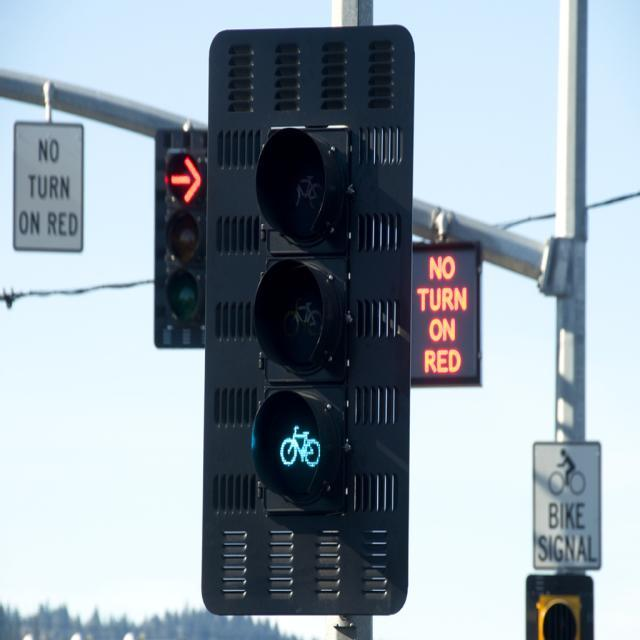traffic light: (209, 37, 417, 578), (155, 129, 211, 350)
